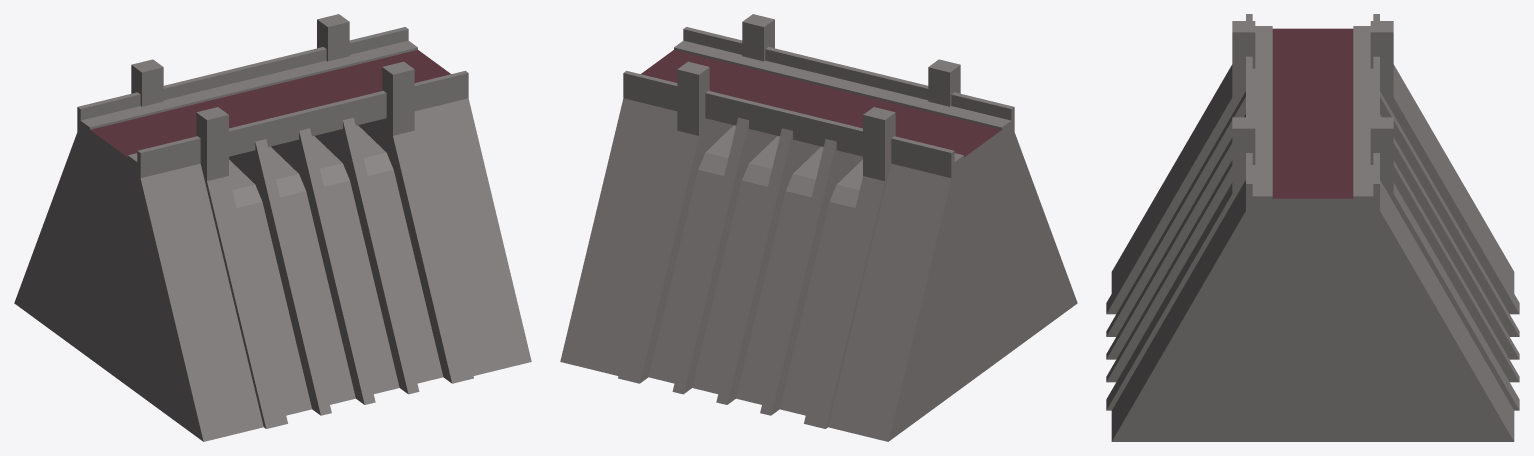
The model's file is dam.fbx.
3 renders of one model, left to right at view 1: azimuth 30°, elevation 25°; view 2: azimuth 150°, elevation 25°; view 3: azimuth 270°, elevation 25°, orthographic. The views are drawn at different scales.
Visible parts, largest first — view 1: dam; view 2: dam; view 3: dam.
Boxes of the visible parts, left/top/right/bottom form: dam: left=14, top=14, right=531, bottom=441; dam: left=560, top=14, right=1077, bottom=441; dam: left=1106, top=14, right=1519, bottom=441.
Size of the model in its own units: 30 by 23.2 by 30.8.
